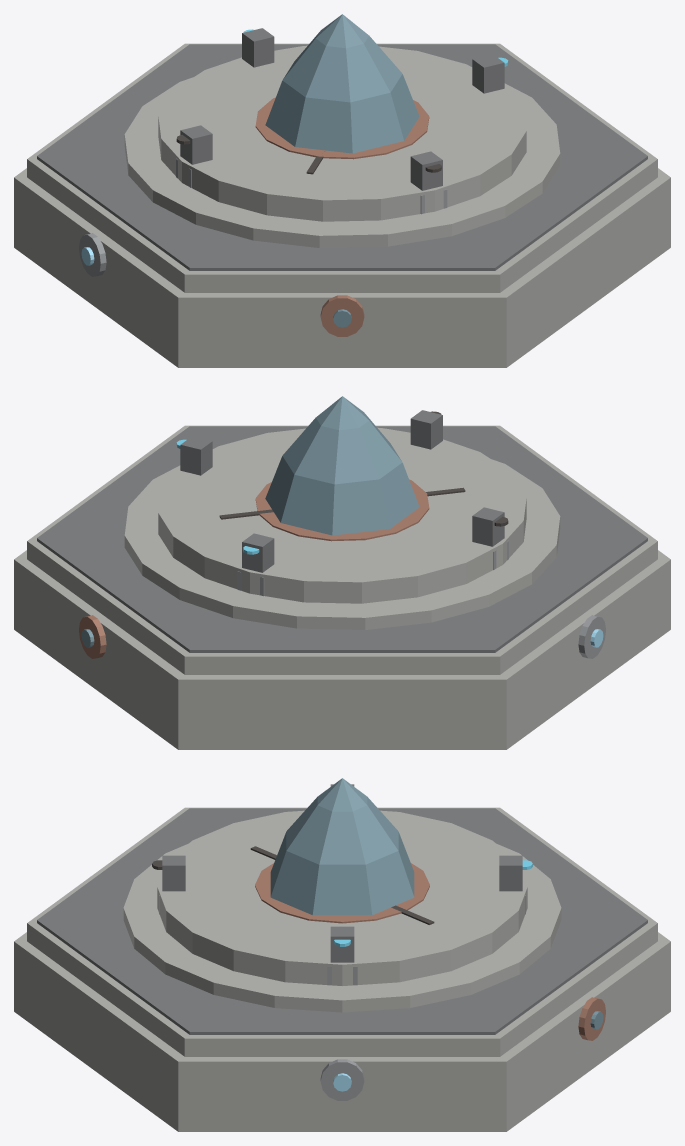
The model's file is shield_emitter_s2_50.glb.
The picture shows the model from 3 angles, top to bottom: view 1: azimuth 30°, elevation 25°; view 2: azimuth 150°, elevation 25°; view 3: azimuth 270°, elevation 25°; orthographic projection.
Parts seen in each view (by area): view 1: SE_Base; view 2: SE_Base; view 3: SE_Base.
Boxes of the visible parts, <box> form: SE_Base: <box>14,14,670,367</box>; SE_Base: <box>14,396,670,749</box>; SE_Base: <box>14,778,670,1131</box>.
Size of the model in its own units: 3.51 by 1.53 by 3.9.
